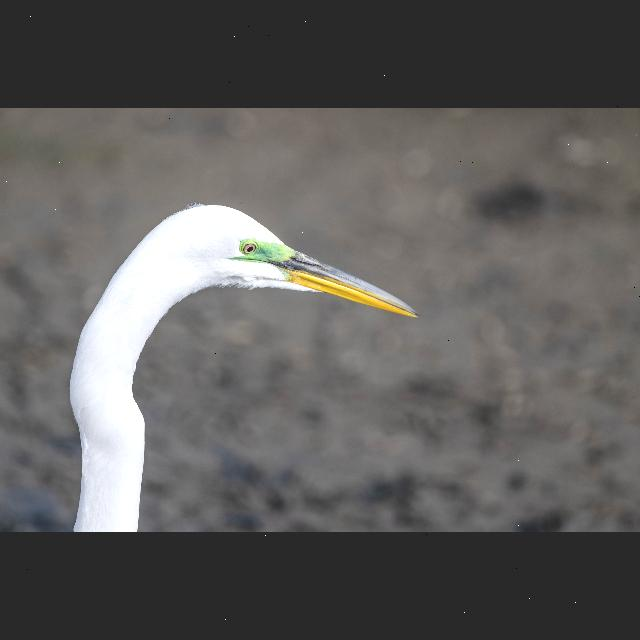egret: (62, 190, 424, 532)
